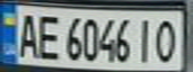0: (78, 15, 100, 62)
4: (100, 15, 118, 63)
6: (60, 12, 84, 62), (115, 16, 136, 63)
A: (12, 10, 42, 58)
E: (33, 10, 63, 61)
I: (133, 15, 157, 63)
O: (151, 16, 181, 64)
